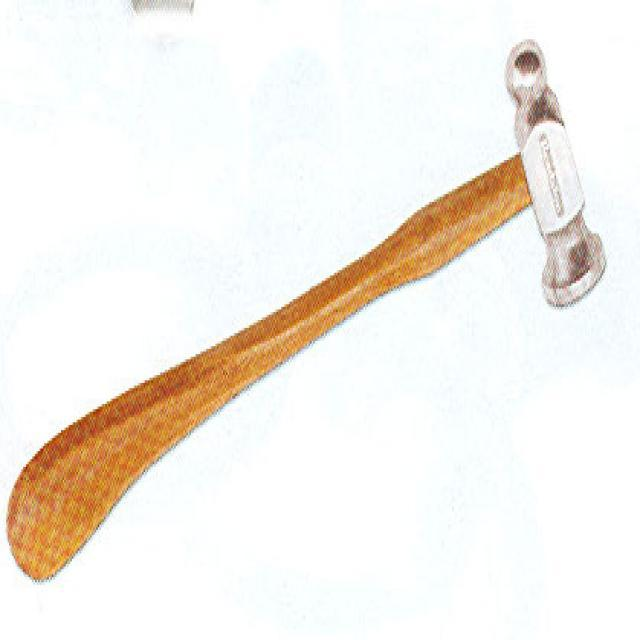hammer: (1, 24, 613, 602)
